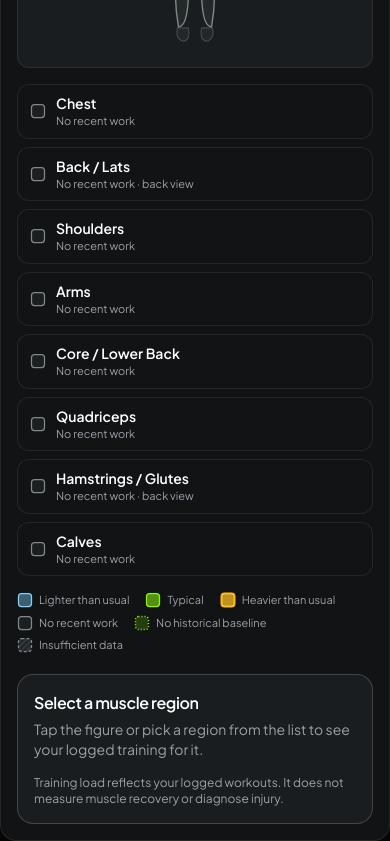
states: empty, insufficient, sufficient, no-record, unmapped › a region trained only before the current window still shows when it was last trained
(page scrolled)
Step 1. Click the button "Quadriceps No recent work" → (96, 416), box x1=17 y1=396 x2=373 y2=451
(page scrolled)
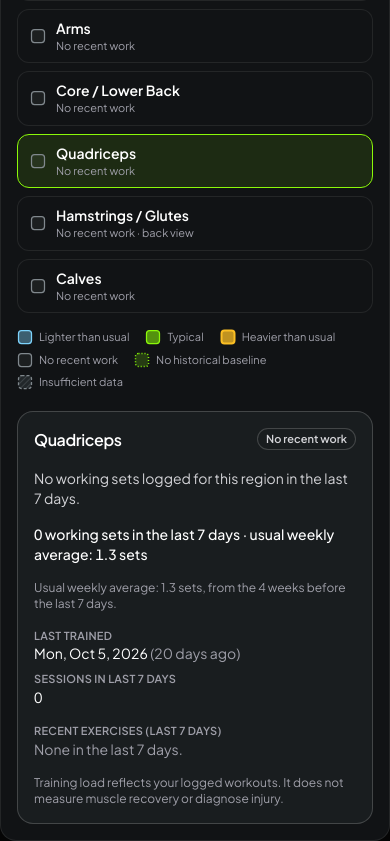
Now the element with test id "muscle-detail-panel" shows "Last trained", box x1=34 y1=628 x2=112 y2=642
Now the element with test id "muscle-detail-panel" shows "20 days ago", box x1=154 y1=644 x2=236 y2=662
Now the element with test id "muscle-detail-panel" shows "None in the last 7 days.", box x1=34 y1=740 x2=183 y2=758
